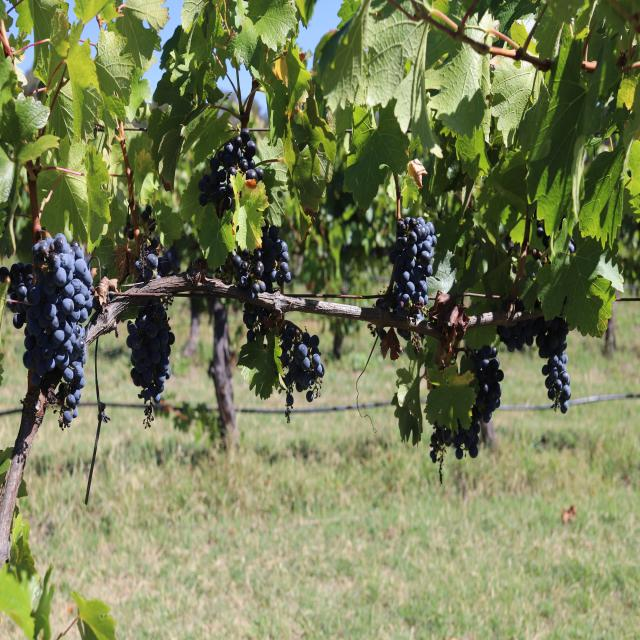grapes: (220, 222, 324, 407), (0, 233, 94, 425), (430, 345, 503, 482), (497, 316, 571, 413), (126, 300, 175, 427), (198, 128, 264, 216), (389, 217, 437, 315), (232, 225, 291, 299)
